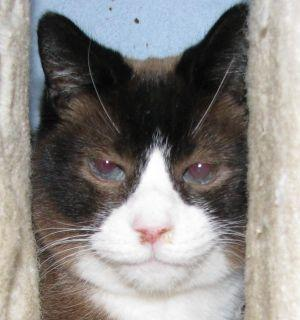ragdoll: (31, 1, 269, 303)
